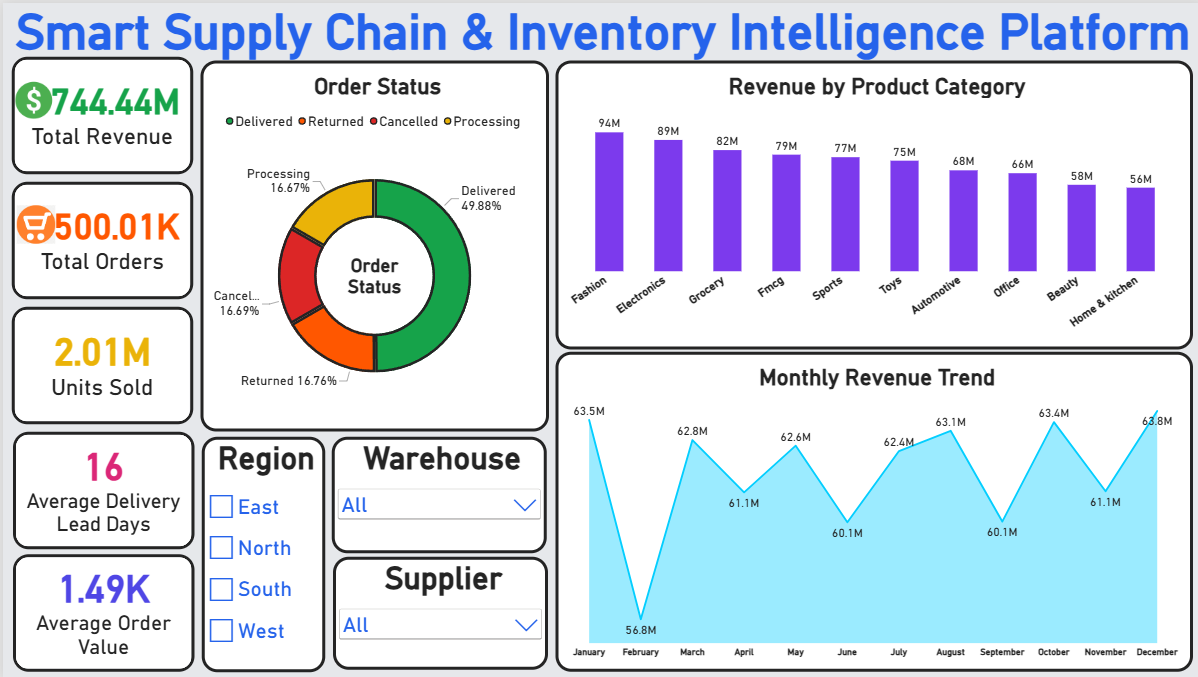

The dashboard page shown, as its layout file describes it:
{"tool":"powerbi","page":{"name":"Executive Overview","canvas":[1920,1080],"ordinal":0},"visuals":[{"type":"textbox","box":[0,0,1920,92],"z":0},{"type":"cardVisual","fields":{"Data":["Sum(Orders.Revenue)"]},"box":[14,85,290,188],"z":1000},{"type":"cardVisual","fields":{"Data":["CountNonNull(Orders.Order_ID)"]},"box":[14,285,290,188],"z":2000},{"type":"cardVisual","fields":{"Data":["Sum(Orders.Quantity)"]},"box":[14,485,290,188],"z":3000},{"type":"lineChart","title":"Monthly Revenue Trend","fields":{"Category":["Orders.Order_Date.Variation.Date Hierarchy.Month"],"Y":["Sum(Orders.Revenue)"]},"box":[884,558,1020,512],"z":4000},{"type":"clusteredColumnChart","title":"Revenue by Product Category","fields":{"Category":["Products.Category"],"Y":["Sum(Orders.Revenue)"]},"box":[884,92,1020,462],"z":5000},{"type":"donutChart","title":"Order Status","fields":{"Category":["Orders.Order_Status"],"Y":["CountNonNull(Orders.Order_Status)"]},"box":[316.7,92.3,557.4,593.6],"z":6000},{"type":"slicer","title":"Region","fields":{"Values":["Customers.Region"]},"box":[318.5,693.1,197.3,376.4],"z":7000},{"type":"slicer","title":"Warehouse","fields":{"Values":["Warehouses.Warehouse_ID"]},"box":[526.6,693.1,343.8,186.4],"z":8000},{"type":"cardVisual","fields":{"Data":["Avg(Suppliers.Lead_Time_Days)"]},"box":[16,685,290,188],"z":9000},{"type":"cardVisual","fields":{"Data":["Avg(Orders.Revenue)"]},"box":[16,882,290,188],"z":10000},{"type":"slicer","title":"Supplier","fields":{"Values":["Suppliers.Supplier_ID"]},"box":[528.4,886.7,343.8,181],"z":11000},{"type":"image","box":[12.7,115.8,74.2,79.6],"z":12000},{"type":"image","box":[21.7,309.5,61.5,88.7],"z":13000}]}

Visuals, with their boxes in screenshot pixels (x1, y1, x2, y2), scaled from the page's 1920x1080 canvas onto the 1198x677 screenshot:
textbox: detection(0, 0, 1197, 58)
cardVisual - Sum(Orders.Revenue): detection(9, 53, 190, 171)
cardVisual - CountNonNull(Orders.Order_ID): detection(9, 179, 190, 297)
cardVisual - Sum(Orders.Quantity): detection(9, 304, 190, 422)
"Monthly Revenue Trend" lineChart: detection(552, 350, 1188, 671)
"Revenue by Product Category" clusteredColumnChart: detection(552, 58, 1188, 347)
"Order Status" donutChart: detection(198, 58, 545, 430)
"Region" slicer: detection(199, 434, 322, 670)
"Warehouse" slicer: detection(329, 434, 543, 551)
cardVisual - Avg(Suppliers.Lead_Time_Days): detection(10, 429, 191, 547)
cardVisual - Avg(Orders.Revenue): detection(10, 553, 191, 671)
"Supplier" slicer: detection(330, 556, 544, 669)
image: detection(8, 73, 54, 122)
image: detection(14, 194, 52, 250)
